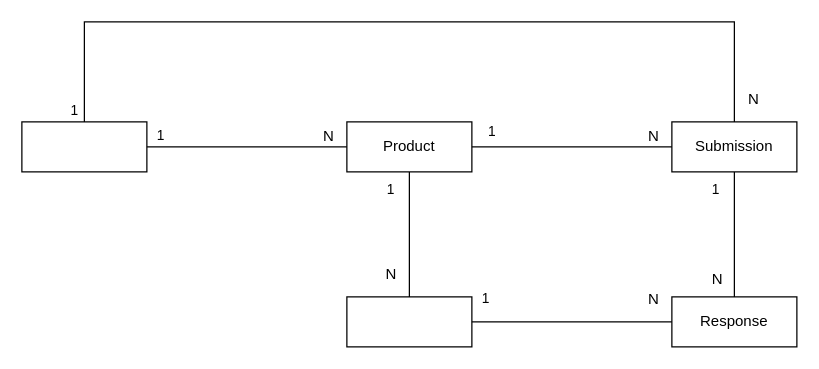
The diagram is 819 pixels wide and 369 high, and some of its shapes have lost their labels. The shapes that lost their labels are listed below. From the top down, each one's box as (x1, y1, x2, y2) in pixels, then its label:
(21, 121, 147, 172): User
(346, 296, 472, 347): Question
